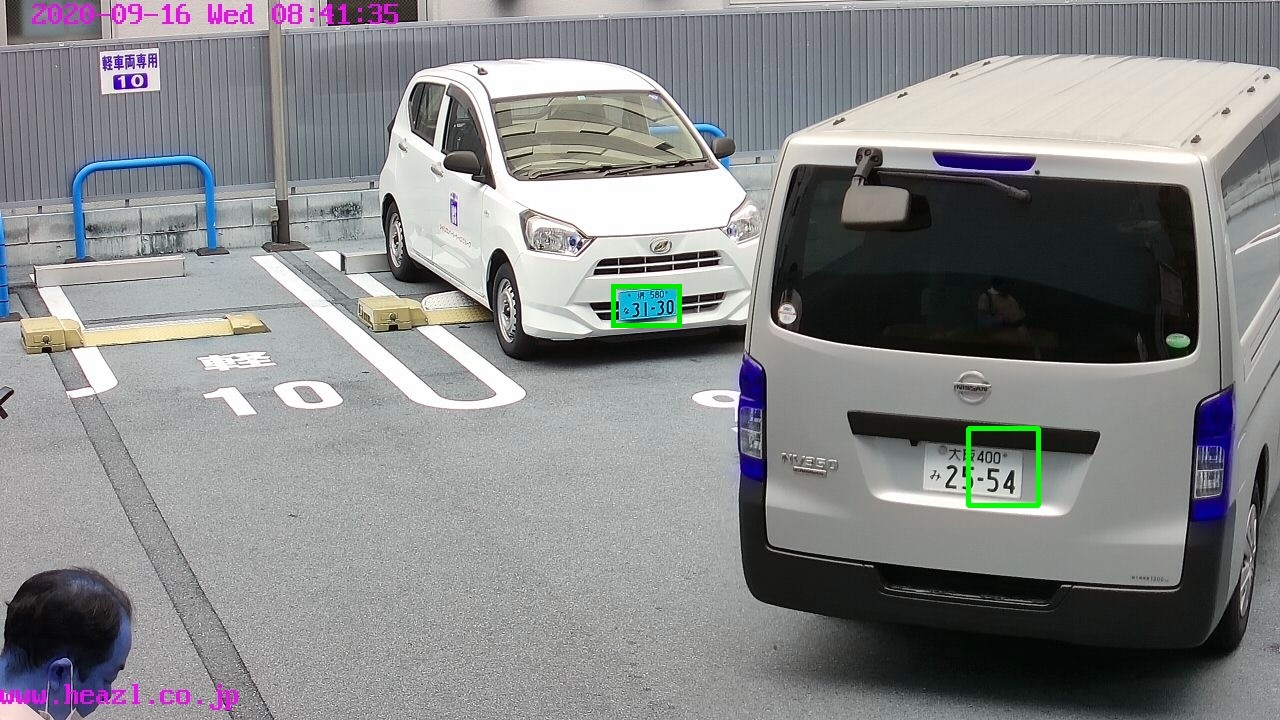number_plate: (922, 440, 1022, 499), (617, 289, 680, 319)
